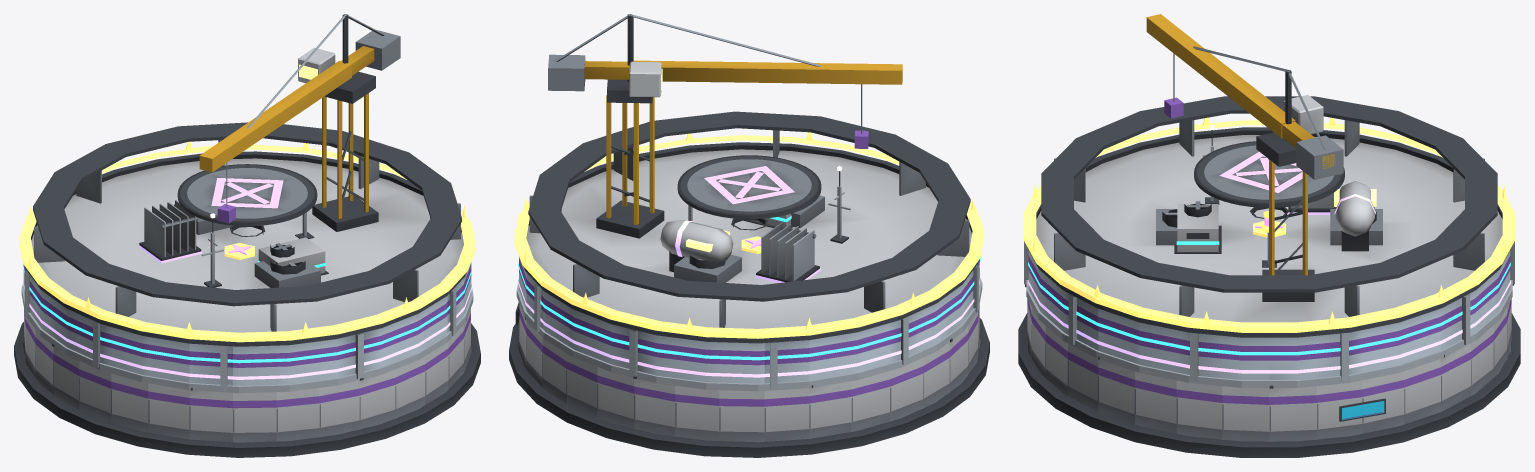
The model's file is cold_storage_s.glb.
3 renders of one model, left to right at view 1: azimuth 30°, elevation 25°; view 2: azimuth 150°, elevation 25°; view 3: azimuth 270°, elevation 25°, orthographic. The views are drawn at different scales.
Parts seen in each view (by area): view 1: Roof, Base, L4, Wall_20, Wall_21, Wall_22, Wall_19, Wall_23, Wall_18, Wall_24, Wall_17, Upper_20 (+27 smaller); view 2: Roof, Base, L4, Wall_11, Wall_10, Wall_09, Wall_12, Wall_08, Wall_13, Wall_07, Upper_11, Wall_14 (+27 smaller); view 3: Roof, Base, L4, Wall_00, Wall_31, Wall_30, Wall_29, L3, Wall_01, Wall_28, Wall_03, Wall_02 (+29 smaller).
Boxes of the visible parts, box(x1,y1,x2,y2) form: Roof: box(25, 14, 466, 346); Base: box(14, 322, 480, 457); L4: box(138, 200, 202, 263); Wall_20: box(189, 388, 232, 442); Wall_21: box(233, 392, 276, 442); Wall_22: box(276, 388, 319, 441); Wall_19: box(148, 383, 189, 439); Wall_23: box(319, 380, 359, 437); Wall_18: box(111, 373, 148, 432); Wall_24: box(359, 369, 394, 429); Wall_17: box(79, 361, 111, 422); Upper_20: box(189, 343, 232, 390); Roof: box(524, 14, 978, 343); Base: box(509, 318, 989, 457); L4: box(660, 220, 820, 282); Wall_11: box(764, 388, 809, 441); Wall_10: box(719, 390, 764, 442); Wall_09: box(675, 385, 719, 440); Wall_12: box(809, 381, 851, 438); Wall_08: box(633, 376, 675, 436); Wall_13: box(851, 371, 889, 431); Wall_07: box(597, 367, 634, 428); Upper_11: box(764, 340, 809, 388); Wall_14: box(890, 358, 922, 421); Roof: box(1027, 14, 1511, 337); Base: box(1018, 313, 1520, 457); L4: box(1287, 181, 1376, 251); Wall_00: box(1269, 385, 1316, 441); Wall_31: box(1222, 386, 1269, 441); Wall_30: box(1176, 380, 1222, 439); Wall_29: box(1134, 371, 1176, 433); L3: box(1174, 201, 1268, 253); Wall_01: box(1316, 380, 1362, 439); Wall_28: box(1098, 356, 1134, 424); Wall_03: box(1404, 359, 1440, 424); Wall_02: box(1362, 371, 1403, 433).
Bounding box in the file's own units: 10.53 × 7.83 × 10.53.
